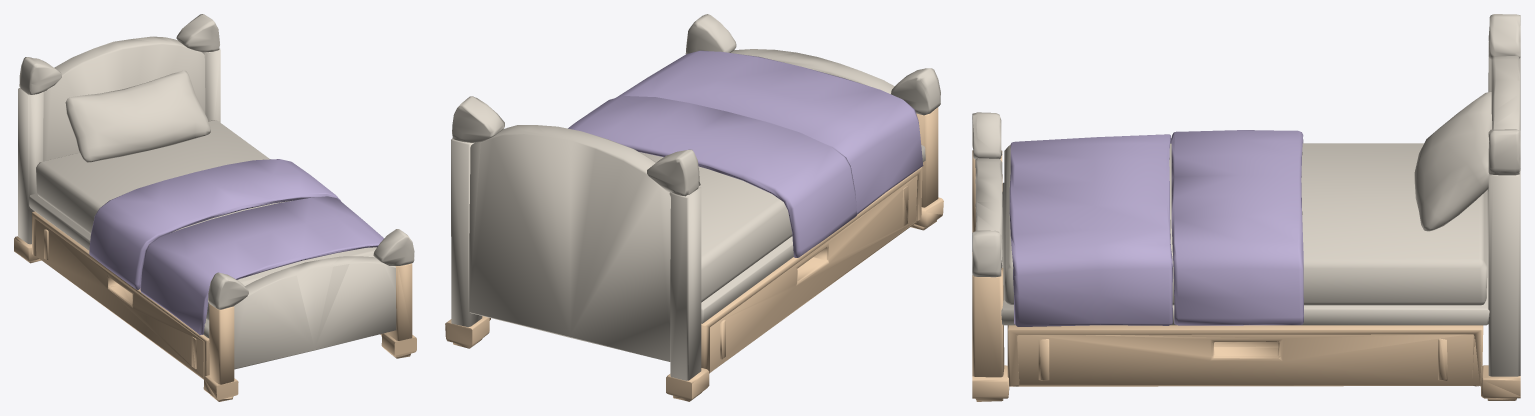
File: bedroom_single_bed.glb
3 views of the same model, side by side, from view 1: azimuth 30°, elevation 25°; view 2: azimuth 150°, elevation 25°; view 3: azimuth 270°, elevation 25° (orthographic). The views are drawn at different scales.
Size of the model in its own units: 2.1 by 1.85 by 3.45.
